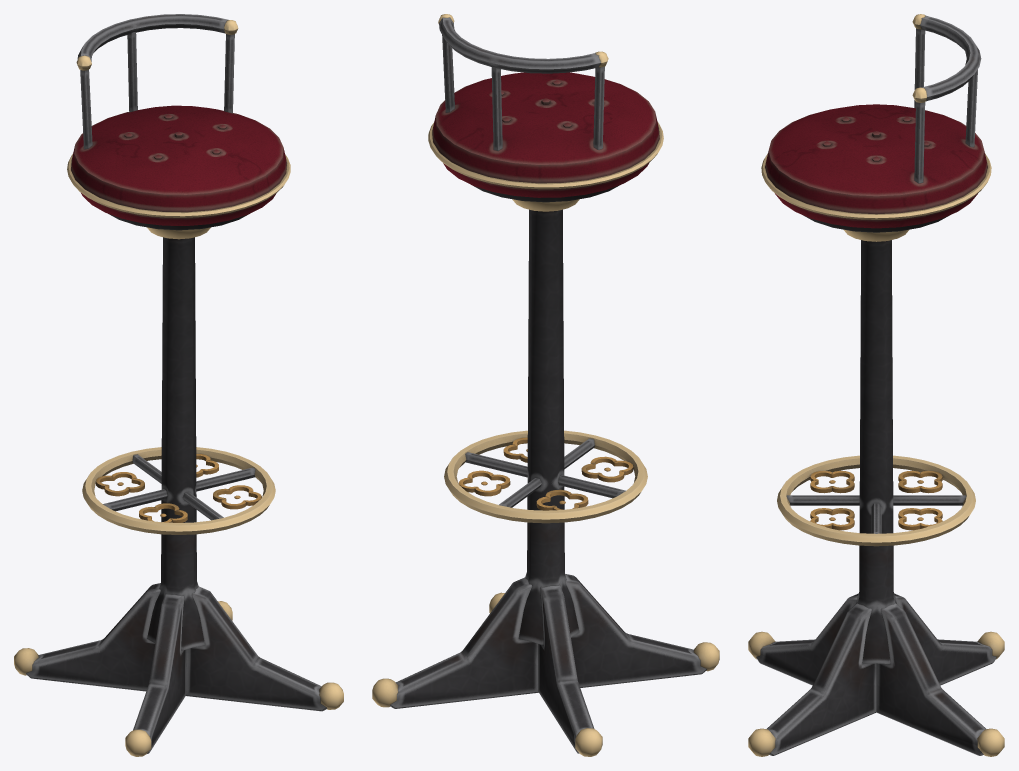
The model's file is BarStool.fbx.
The picture shows the model from 3 angles, left to right: view 1: azimuth 30°, elevation 25°; view 2: azimuth 150°, elevation 25°; view 3: azimuth 270°, elevation 25°; orthographic projection. The views are drawn at different scales.
Parts seen in each view (by area): view 1: BarStool; view 2: BarStool; view 3: BarStool.
Part boxes in pixels (x1=…): BarStool: x1=14, y1=14, x2=343, y2=756; BarStool: x1=372, y1=14, x2=719, y2=756; BarStool: x1=748, y1=14, x2=1004, y2=756.
Size of the model in its own units: 124 by 349 by 124.
